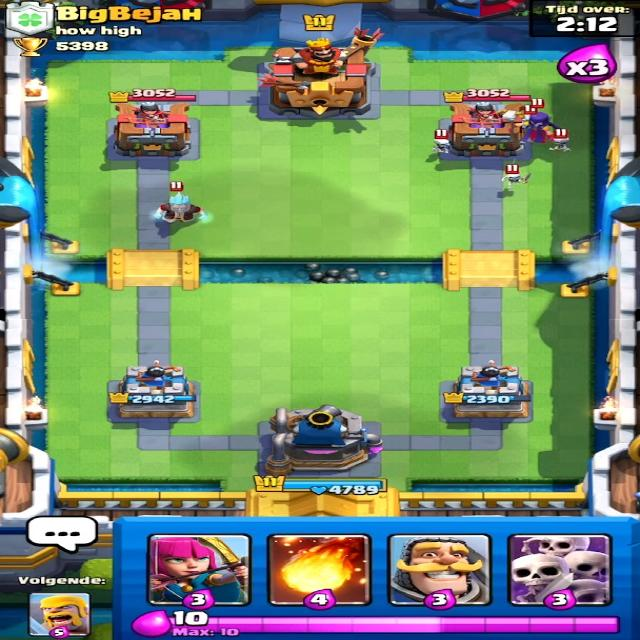Enemy_Ice_Wizard_Troop: (155, 192, 211, 228)
Enemy_Skeleton_Troop: (500, 172, 533, 190), (424, 137, 451, 155), (553, 136, 573, 152)
Enemy_Witch_Troop: (516, 107, 561, 148)
Fireball_Card: (262, 535, 364, 600)
